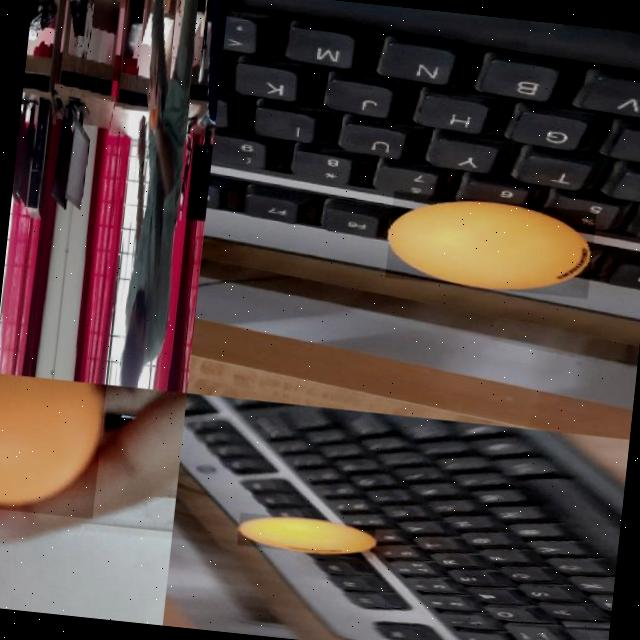ping-pong-ball: (383, 190, 596, 299), (0, 373, 105, 519), (235, 512, 376, 559), (150, 108, 156, 132)
